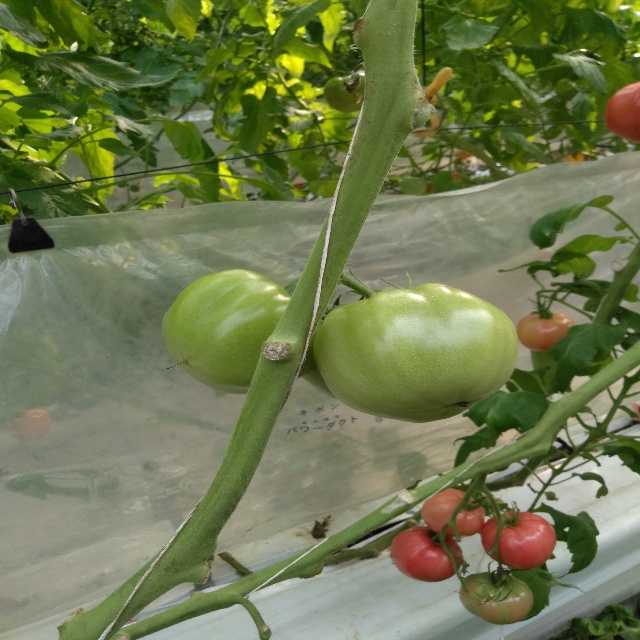b_fully_ripened: (480, 512, 557, 571), (389, 526, 462, 582), (604, 82, 640, 143)
b_green: (314, 283, 518, 424), (162, 269, 322, 394), (322, 70, 365, 113)
b_half_ripened: (459, 572, 534, 625), (421, 488, 485, 537), (515, 313, 575, 352)
